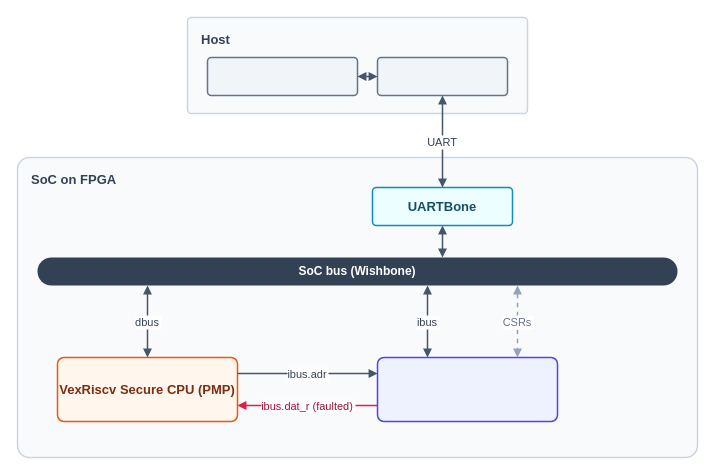
Some shapes in this 716 by 476 pixel diagram are drawn without their labels. Here are the shapes that lost their labels. From the top down, the centre of each, then its label:
[282,76]: liteinjector_cli
[442,76]: litex_server
[467,389]: LiteInjector
